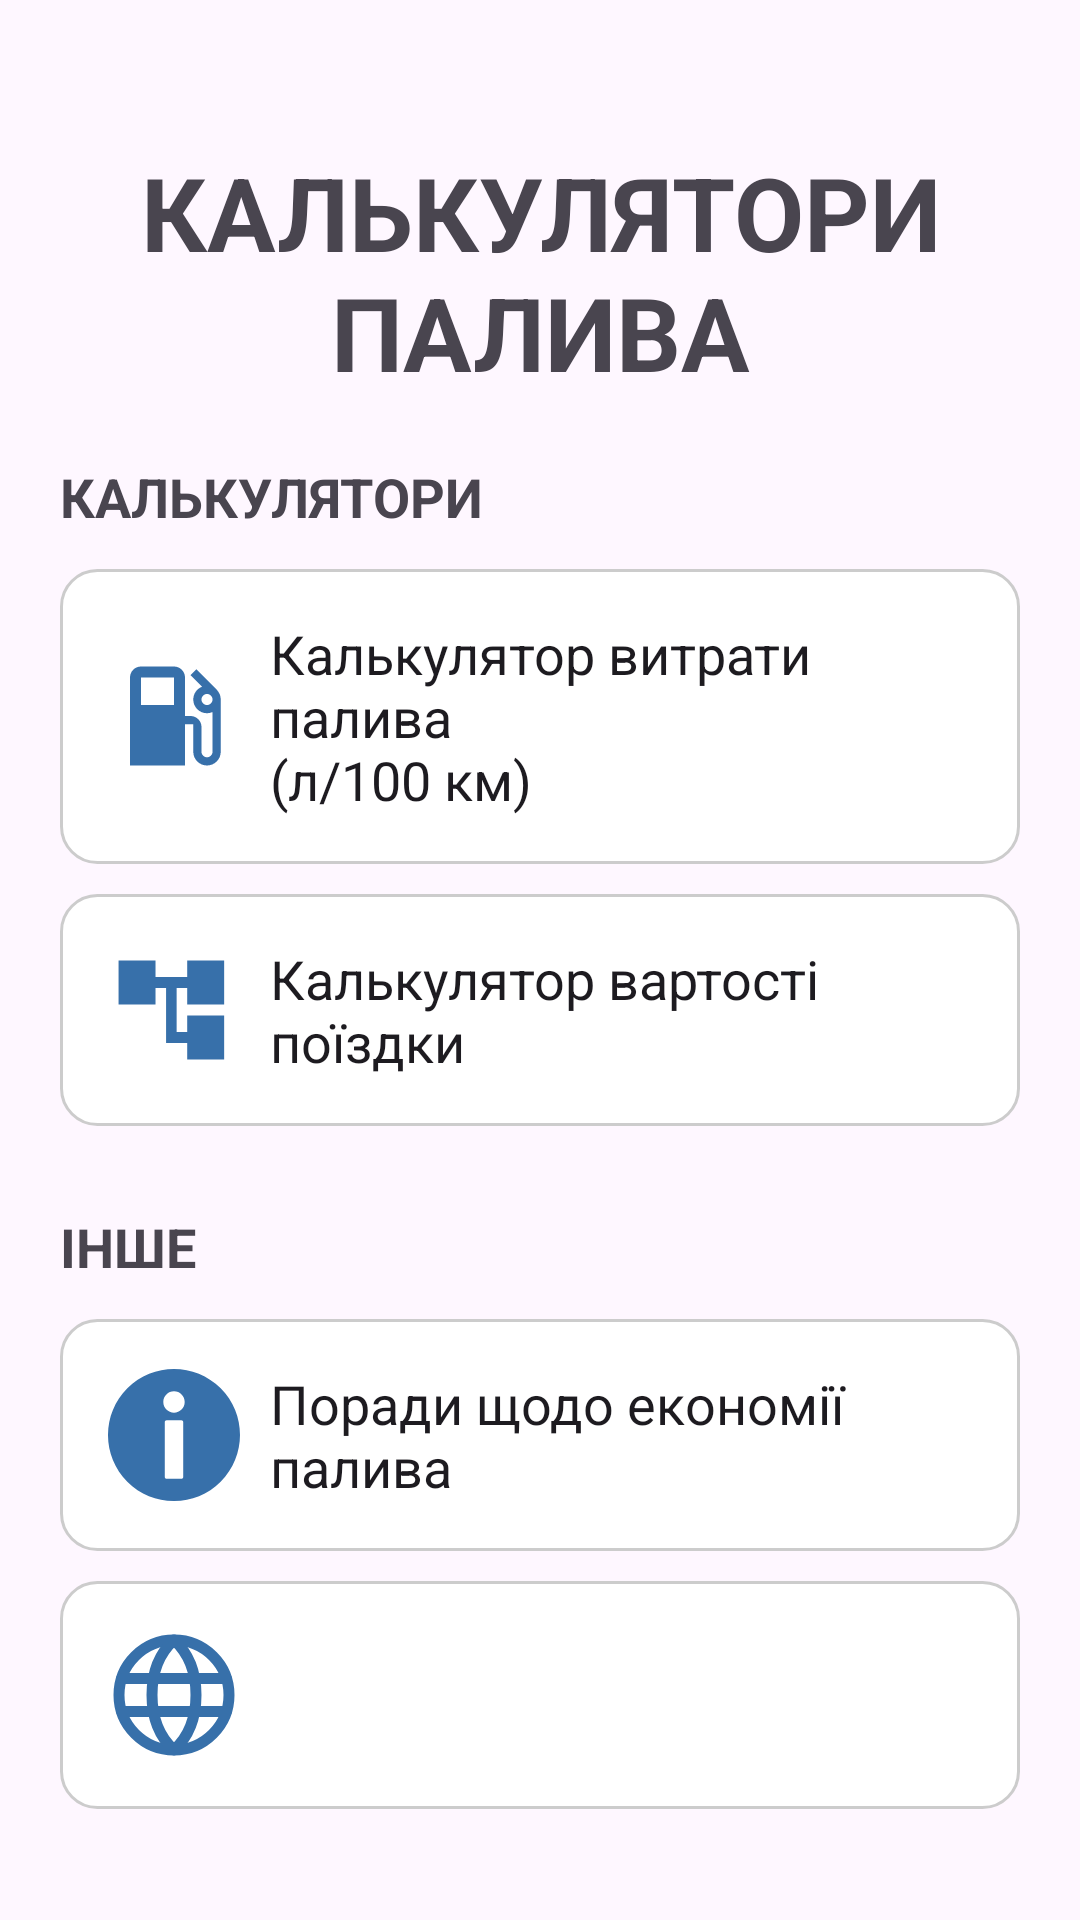

Icon click points for this 1080*1920 phone screenshot, format [x,y]:
gas station: [175,716]
info: [174,1435]
language: [174,1695]
